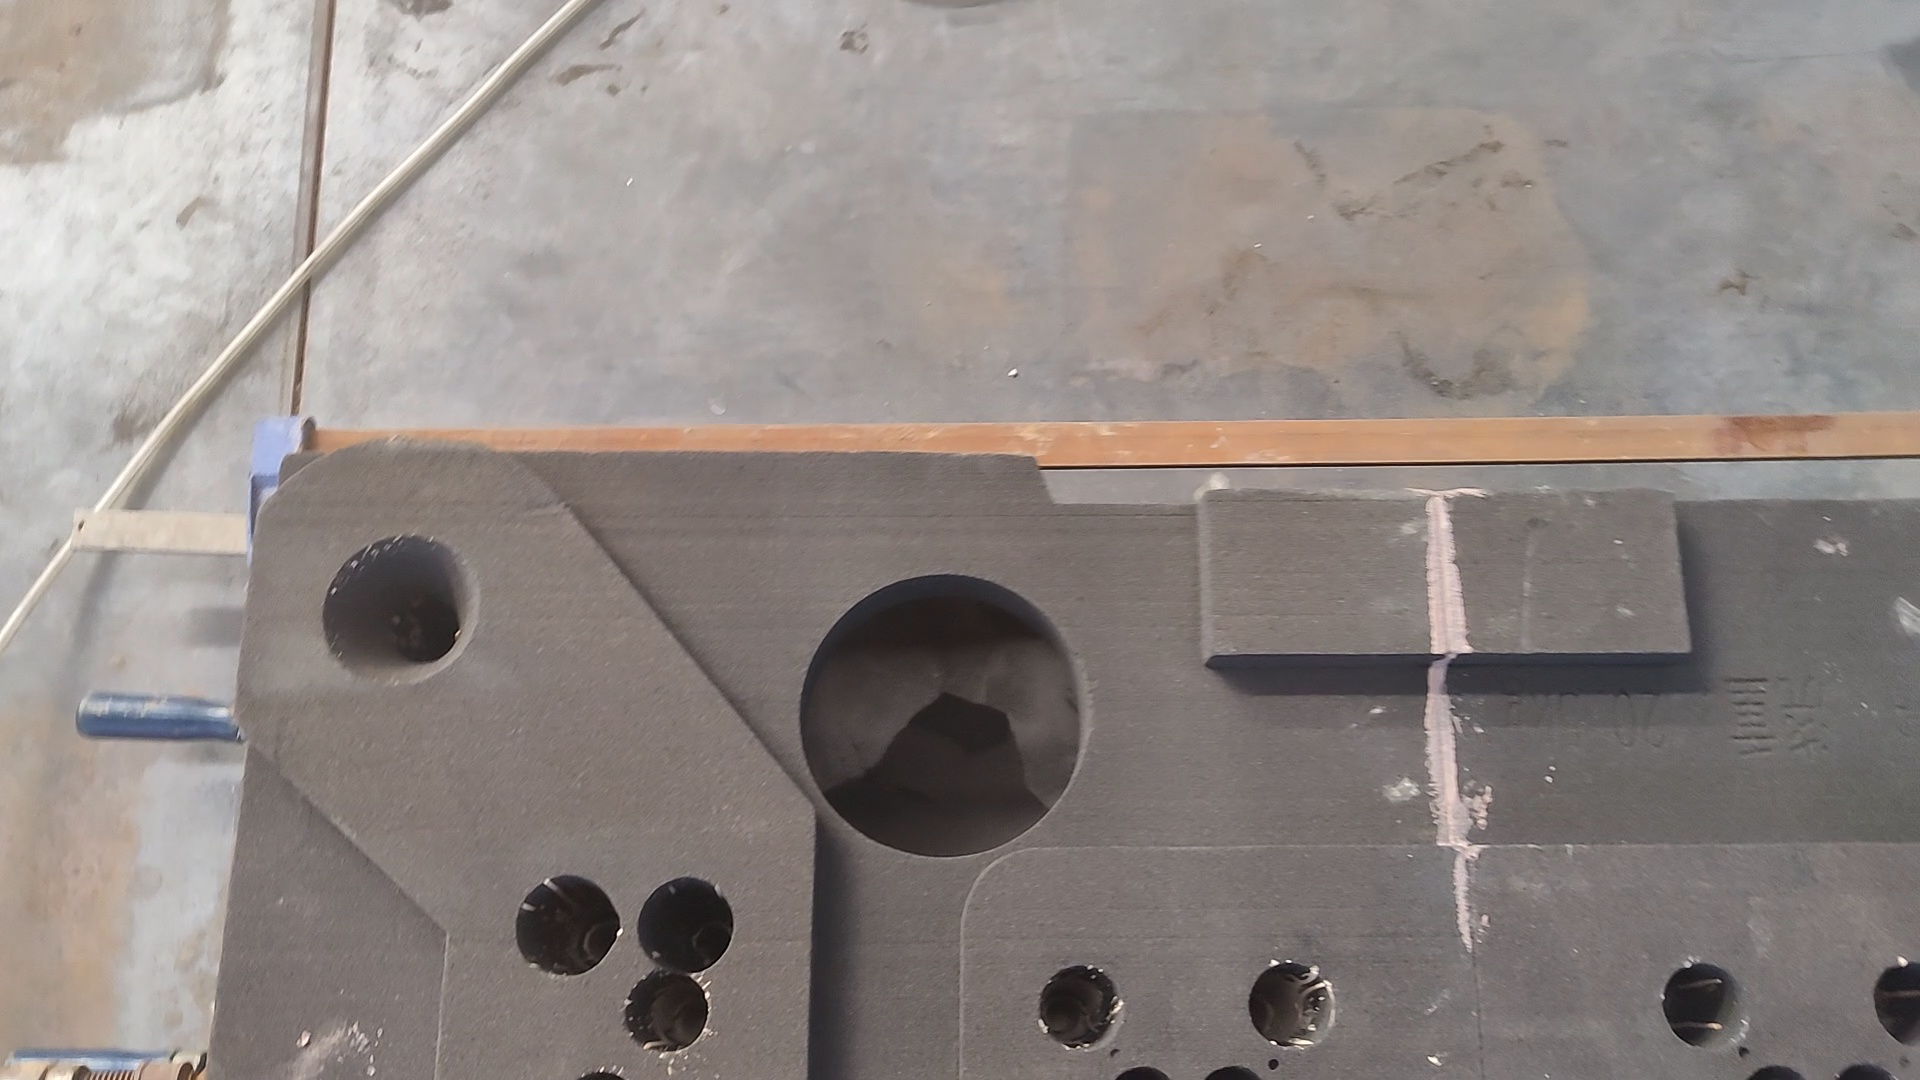pouring hole: (320, 534, 480, 684)
